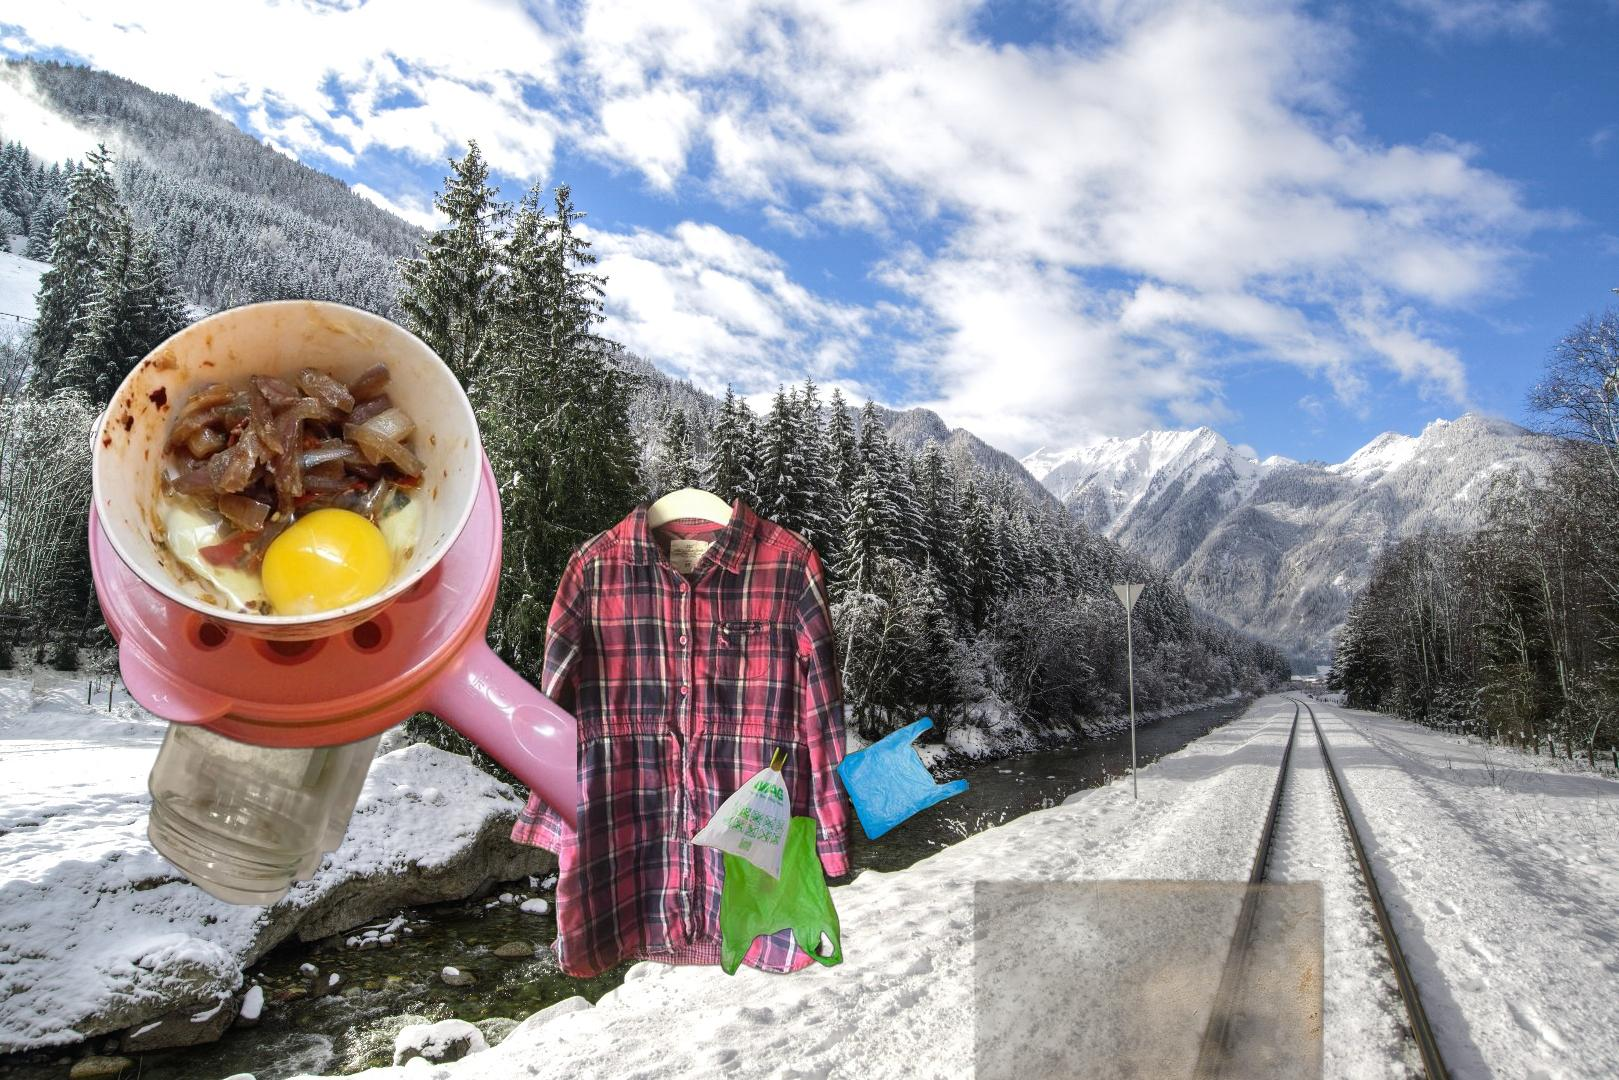battery: (70, 401, 168, 481)
biological: (83, 290, 577, 841)
clothes: (505, 468, 860, 1000)
glass: (143, 552, 413, 905)
plastic-bag: (688, 714, 974, 979)
trashbox-cardboard: (966, 871, 1333, 1080)
